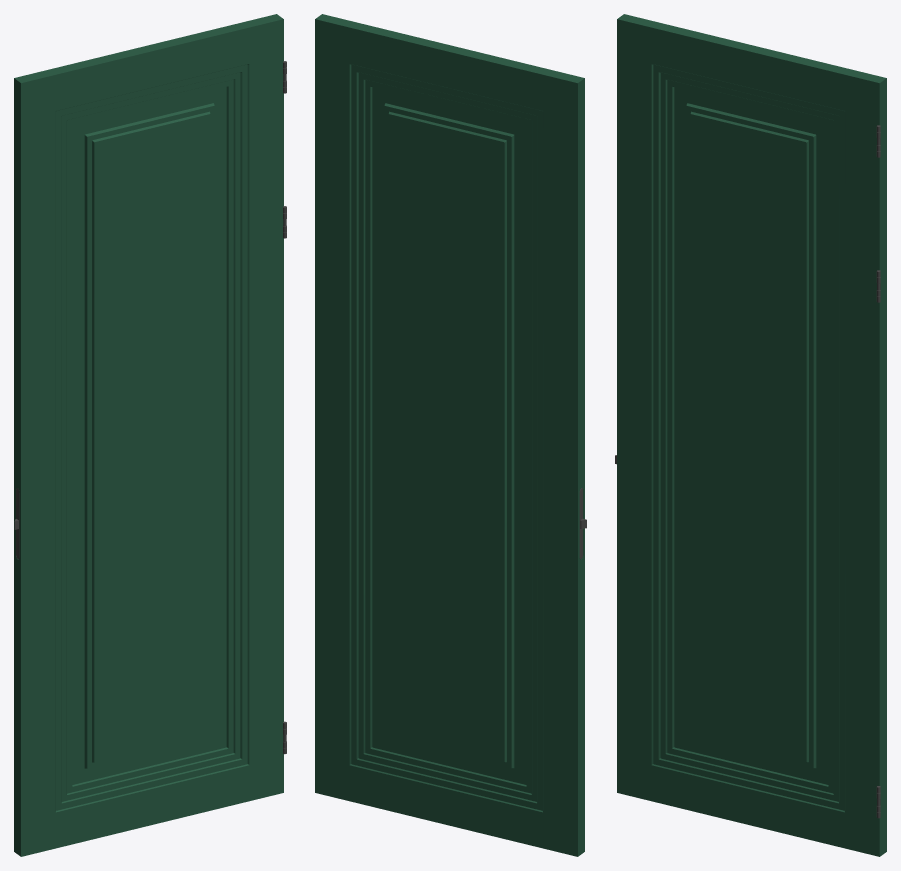
The model's file is 7_OLIVIA_DOOR.glb.
3 renders of one model, left to right at view 1: azimuth 30°, elevation 25°; view 2: azimuth 150°, elevation 25°; view 3: azimuth 330°, elevation 25°, orthographic.
Visible parts, largest first — view 1: 7_OLIVIA_DOOR; view 2: 7_OLIVIA_DOOR; view 3: 7_OLIVIA_DOOR.
Boxes of the visible parts, x1,y1,x2,y2 form: 7_OLIVIA_DOOR: (14,14,286,856); 7_OLIVIA_DOOR: (315,14,586,856); 7_OLIVIA_DOOR: (615,14,886,856).
Bounding box in the file's own units: 0.7995 × 2.2 × 0.0468.
